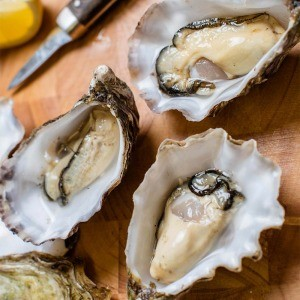oyster_brain food: (15, 81, 113, 244), (127, 162, 241, 290), (135, 14, 279, 105)
